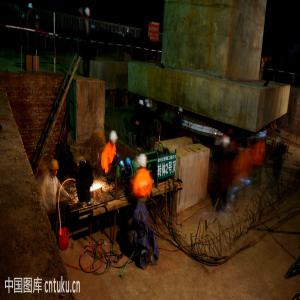white: (138, 153, 148, 173), (111, 130, 119, 146)
yellow: (50, 159, 59, 178), (78, 155, 87, 169)
